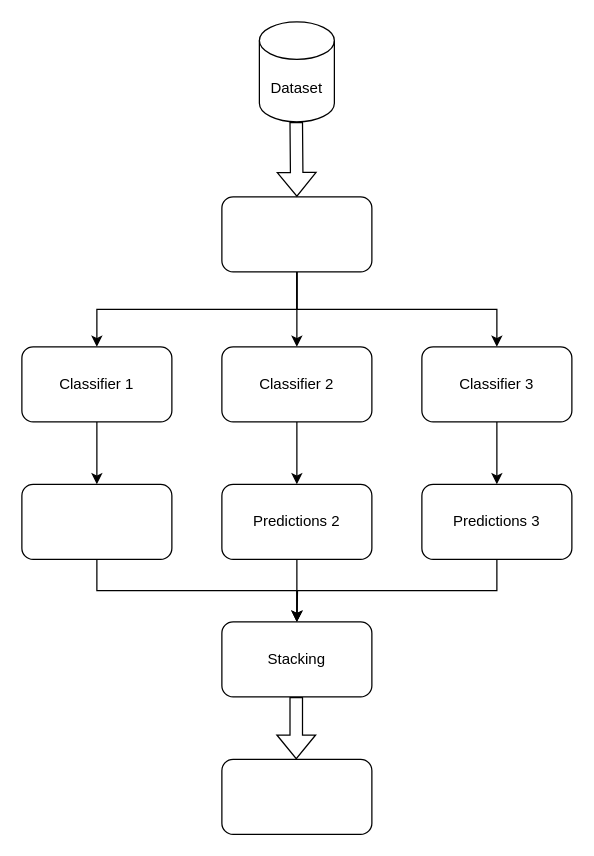
The diagram is 594 pixels wide and 856 high, and some of its shapes have lost their labels. The shapes that lost their labels are listed below. From the top down, each one's centre as x and y in pixels, then its label:
At (296,234): "Preprocessing".
At (96,521): "Predictions 1".
At (296,796): "Final predictions".
